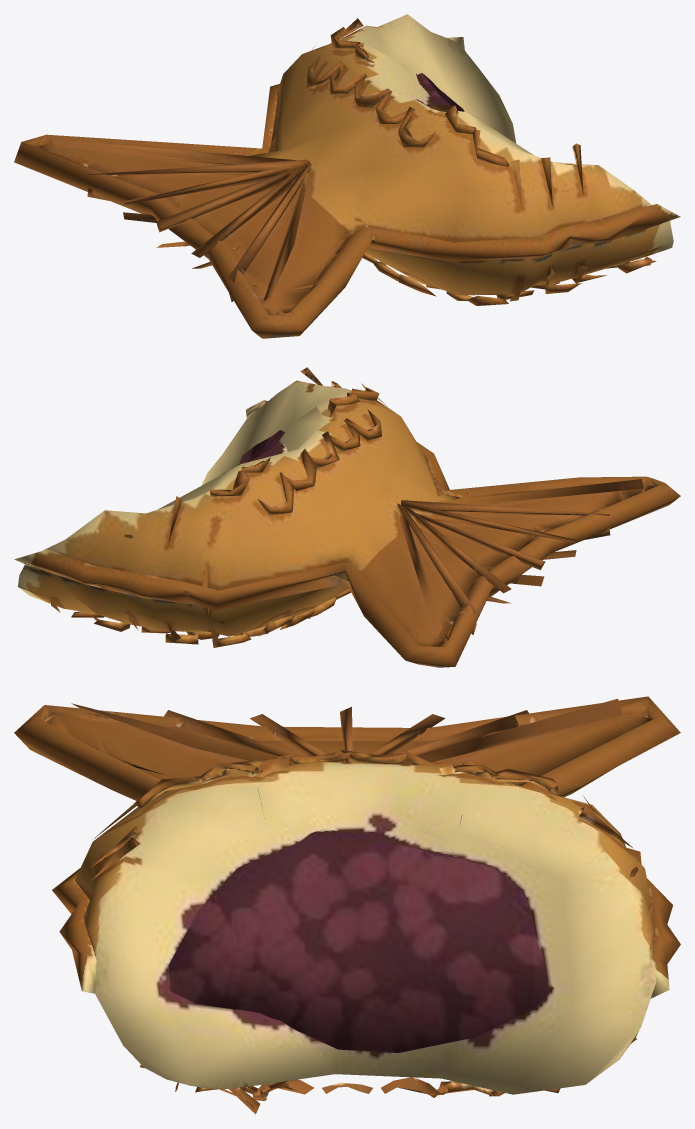
The model's file is taiyaki_b2.glb.
The picture shows the model from 3 angles, top to bottom: view 1: azimuth 30°, elevation 25°; view 2: azimuth 150°, elevation 25°; view 3: azimuth 270°, elevation 25°; orthographic projection. The views are drawn at different scales.
Parts seen in each view (by area): view 1: prop_taiyaki_b2_felt; view 2: prop_taiyaki_b2_felt; view 3: prop_taiyaki_b2_felt.
Boxes of the visible parts, box(x1,y1,x2,y2) form: prop_taiyaki_b2_felt: box(14, 14, 680, 338); prop_taiyaki_b2_felt: box(14, 367, 680, 667); prop_taiyaki_b2_felt: box(14, 696, 680, 1114).
Bounding box in the file's own units: 0.1384 × 0.0527 × 0.1326.
1 material, 1 textured.
